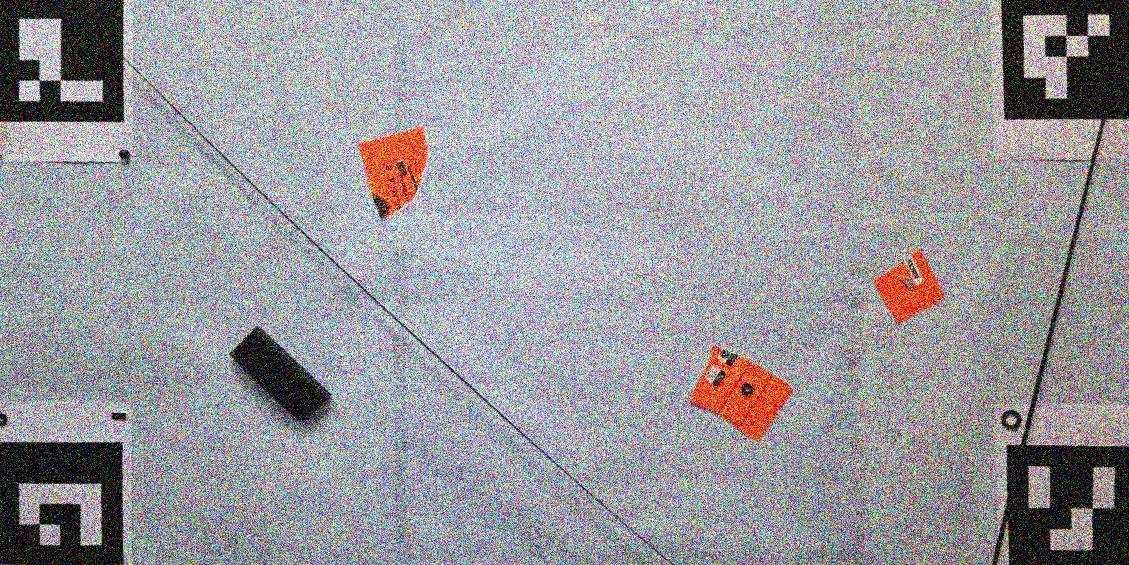obstacle: (685, 341, 792, 443), (228, 324, 331, 425), (358, 123, 431, 222), (874, 251, 946, 323)
